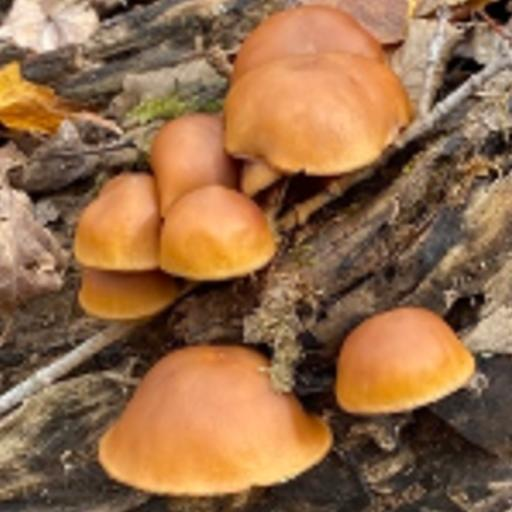mushroom: (66, 7, 419, 319), (101, 326, 476, 498)
